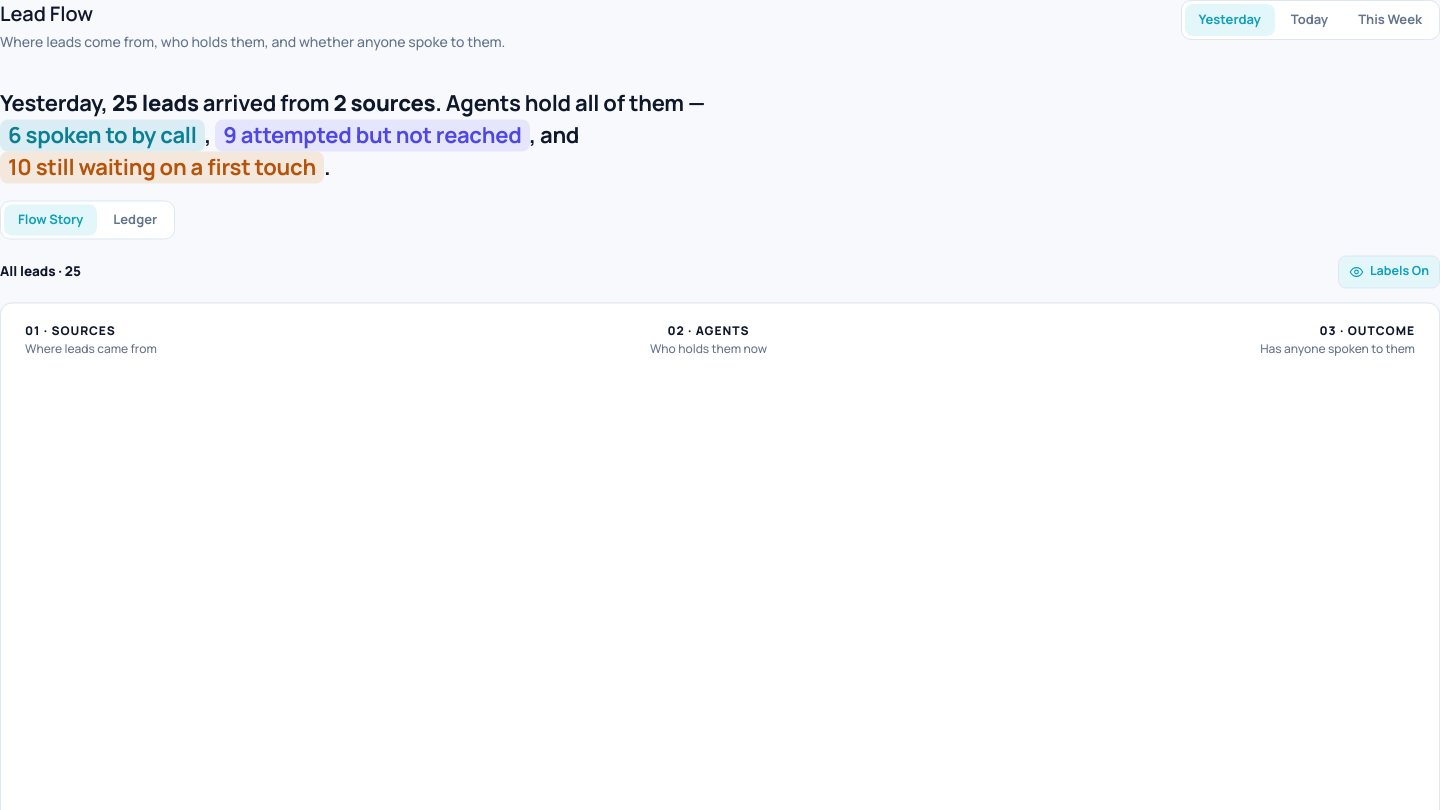
it: reports page — lead flow › switches to the ledger view with its tree headers
Click the button "Ledger" at (135, 216), box [99,200,171,232]
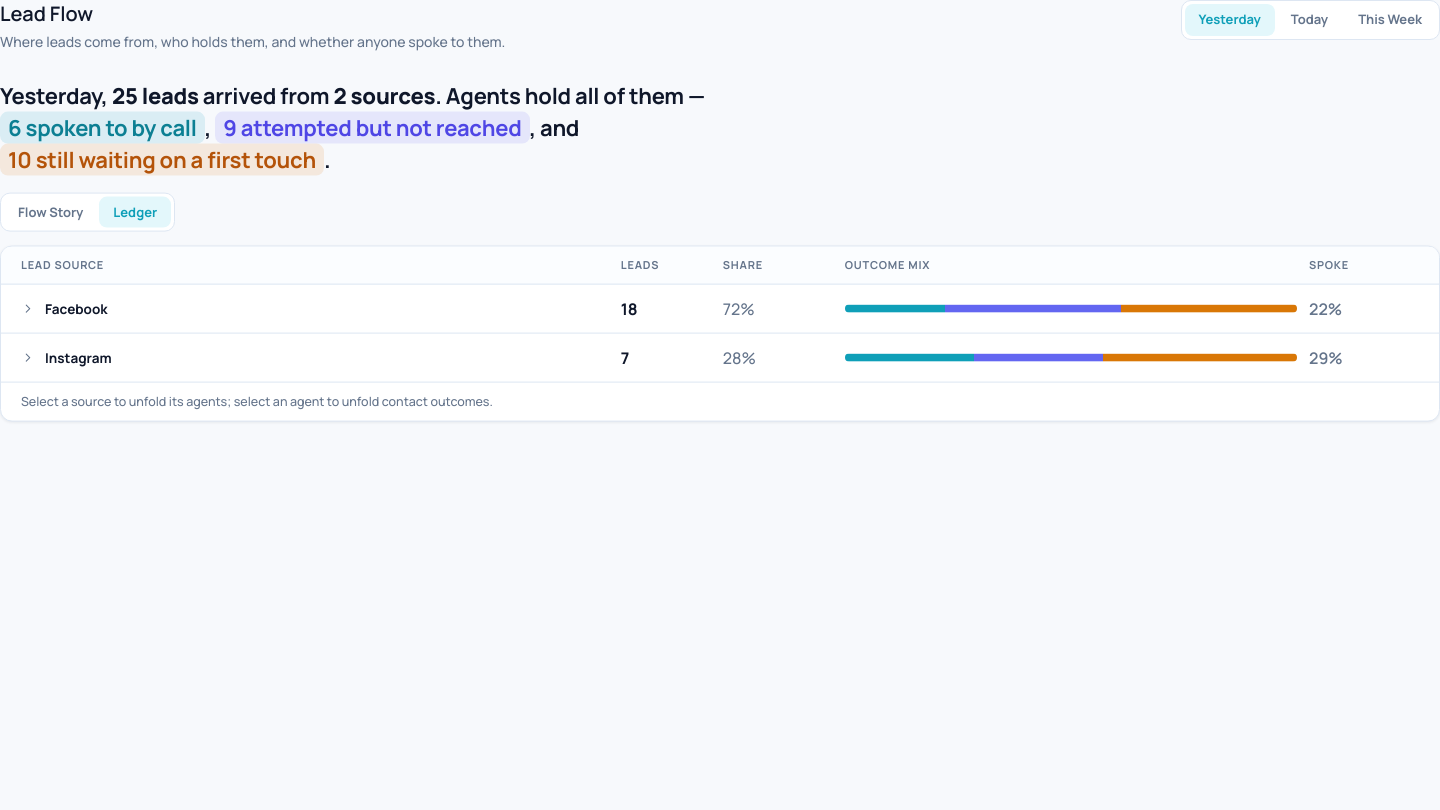
Expected: the text "Lead Source" is shown, [21,256,104,271]
Expected: the text "Facebook" is shown, [21,298,108,316]
